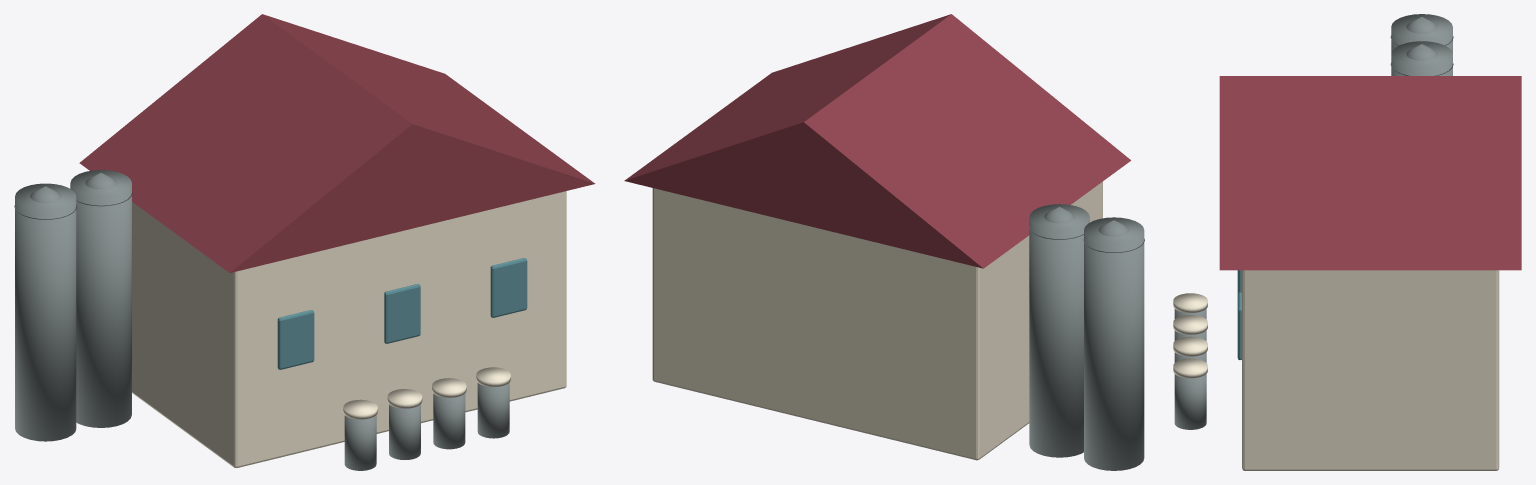
File: dairy_farm.glb
3 renders of one model, left to right at view 1: azimuth 30°, elevation 25°; view 2: azimuth 150°, elevation 25°; view 3: azimuth 270°, elevation 25°, orthographic. The views are drawn at different scales.
Visible parts, largest first — view 1: dairy_farm_ivory, dairy_farm_maroon, dairy_farm_steel, dairy_farm_glass; view 2: dairy_farm_ivory, dairy_farm_maroon, dairy_farm_steel; view 3: dairy_farm_maroon, dairy_farm_ivory, dairy_farm_steel, dairy_farm_glass.
Boxes of the visible parts, x1,y1,x2,y2 form: dairy_farm_ivory: [132, 191, 566, 468]; dairy_farm_maroon: [79, 14, 595, 272]; dairy_farm_steel: [14, 170, 509, 470]; dairy_farm_glass: [277, 258, 527, 369]; dairy_farm_ivory: [652, 181, 1102, 460]; dairy_farm_maroon: [624, 14, 1130, 268]; dairy_farm_steel: [1029, 204, 1144, 470]; dairy_farm_maroon: [1219, 76, 1521, 270]; dairy_farm_ivory: [1173, 270, 1499, 470]; dairy_farm_steel: [1174, 14, 1453, 429]; dairy_farm_glass: [1237, 270, 1241, 359].
Bounding box in the file's own units: 8.59 × 5.4 × 5.42.
